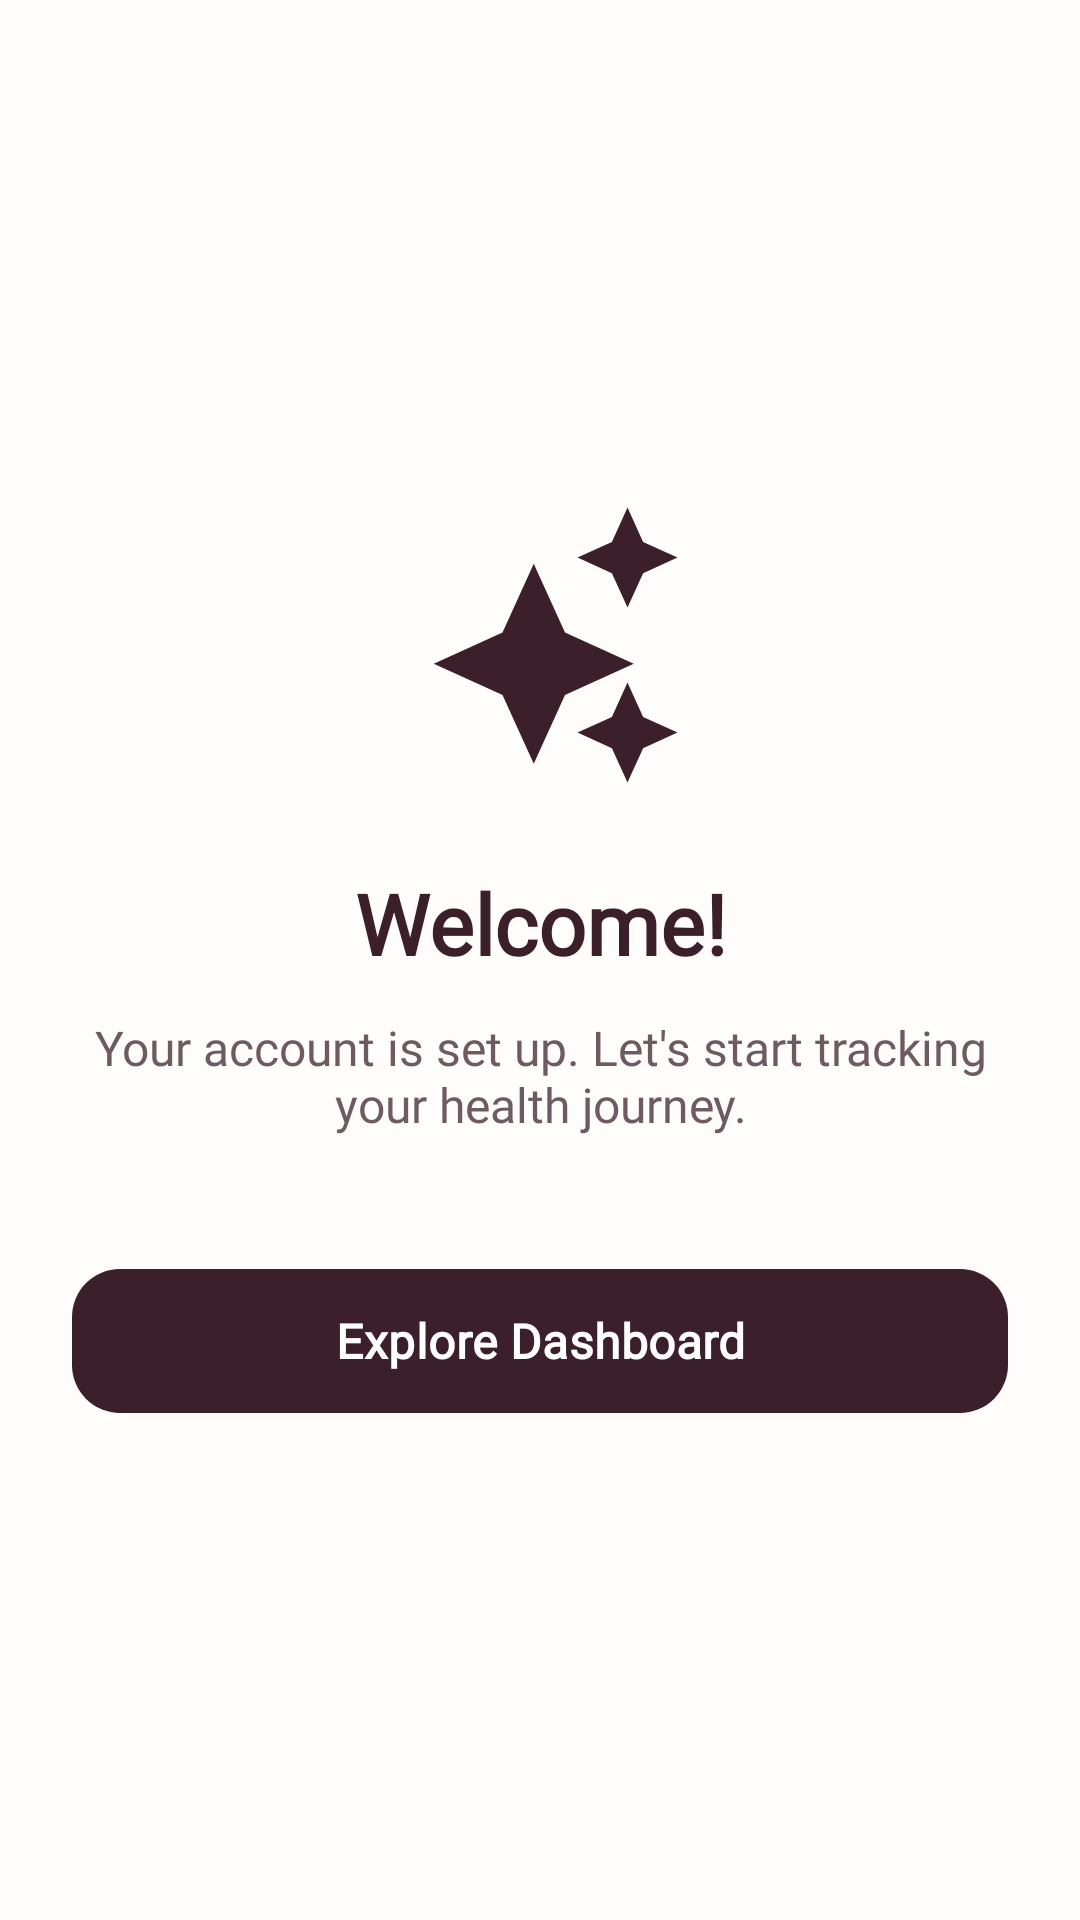

Icons on this 1080*1920 Android screen, each with its box as {"left": x1, "top": y1, "right": x2, "bottom": y2}:
ai sparkle: {"left": 434, "top": 508, "right": 677, "bottom": 782}
